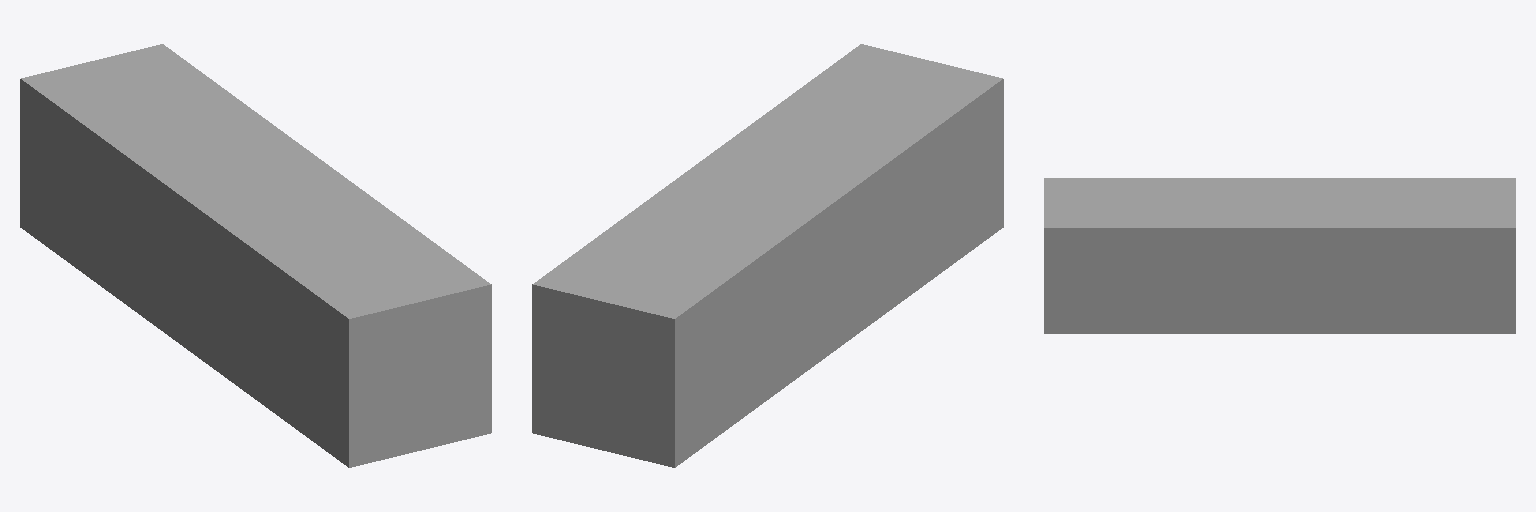
URDF robot description (robot):
<?xml version="1.0"?>
<robot xmlns:xacro="http://ros.org/wiki/xacro" name="robot">
<!-- ...........................................links and joints........................................................................... -->
<link name= "world" />

<link name= "base_link">
    <visual>
        <origin xyz="0 0 0" rpy="0 0 0" />
        <geometry>
         <mesh filename="file://[local-path]/sim_ws/src/six_dof/meshes/base.stl"/>    
        </geometry>
        <material name = "light_grey">
         <color rgba="0.7 0.7 0.7 1.0"/>
        </material>
    </visual>
    
    <collision>
        <origin xyz="0 0 0" rpy="0 0 0" />
        <geometry>
         <mesh filename="file://[local-path]/sim_ws/src/six_dof/meshes/base.stl"/>    
        </geometry>    
    </collision>
    
    <inertial>
        <origin xyz="0 0 0" rpy="0 0 0" />
        <mass value= "1"/>
        <inertia ixx="0.236016666667" ixy="0" ixz="0" iyy="0.236016666667" iyz="0" izz="0.4624" />
    </inertial>
</link>


<link name= "link1">
    <visual>
        <origin xyz="0 0 0" rpy="0 0 0" />
        <geometry>
         <mesh filename="file://[local-path]/sim_ws/src/six_dof/meshes/link1.stl"/>    
        </geometry>
        <material name = "light_grey">
         <color rgba="0.7 0.7 0.7 1.0"/>
        </material>
    </visual>
    
    <collision>
        <origin xyz="0 0 0" rpy="0 0 0" />
        <geometry>
         <mesh filename="file://[local-path]/sim_ws/src/six_dof/meshes/link1.stl"/>    
        </geometry>    
    </collision>

    <inertial>
        <origin xyz="0 0.054450 0.205749" rpy="0 0 0" />
        <mass value= "3"/>
        <!--<inertia ixx="0.001643" ixy="-0" ixz="0" iyy="0.001350" iyz="-0" izz="0.000720" />-->
        <inertia ixx="0.135625" ixy="-0" ixz="-0" iyy="0.135625" iyz="-0" izz="0.06" /> 
    </inertial>
</link>



<link name= "link2">
    <visual>
        <origin xyz="0 0 0" rpy="0 0 0" />
        <geometry>
         <mesh filename="file://[local-path]/sim_ws/src/six_dof/meshes/link2.stl"/>    
        </geometry>
        <material name = "light_grey">
         <color rgba="0.7 0.7 0.7 1.0"/>
        </material>
    </visual>
    
    <collision>
        <origin xyz="0 0 0" rpy="0 0 0" />
        <geometry>
         <mesh filename="file://[local-path]/sim_ws/src/six_dof/meshes/link2.stl"/>    
        </geometry>    
    </collision>

    <inertial>
        <origin xyz="-0.001991 0.465745 0.069578" rpy="0 0 0" />
        <mass value= "4.5"/>
        <inertia ixx= "0.521484375" ixy="0" ixz="-0" iyy="0.0271875" iyz="0" izz="0.521484375" />
        <!-- <inertia ixx="0" ixy="0" ixz="0" iyy="0" iyz="0" izz="0.15625" /> -->
    </inertial>
</link>



<link name= "link3">
    <visual>
        <origin xyz="0 0 0" rpy="0 0 0" />
        <geometry>
         <mesh filename="file://[local-path]/sim_ws/src/six_dof/meshes/link3.stl"/>    
        </geometry>
        <material name = "light_grey">
         <color rgba="0.7 0.7 0.7 1.0"/>
        </material>
    </visual>
    
    <collision>
        <origin xyz="0 0 0" rpy="0 0 0" />
        <geometry>
         <mesh filename="file://[local-path]/sim_ws/src/six_dof/meshes/link3.stl"/>    
        </geometry>    
    </collision>

    <inertial>
        <origin xyz="-0.102694 0.463870 -0.115298" rpy="0 0 0.0959931" />
        <mass value= "8"/>
        <inertia ixx= "1.22373333333" ixy="0" ixz="-0" iyy="0.0533333333333" iyz="0" izz="1.22373333333" />

    </inertial>
</link>


<link name= "link4">
    <visual>
        <origin xyz="0 0 0" rpy="0 0 0" />
        <geometry>
         <mesh filename="file://[local-path]/sim_ws/src/six_dof/meshes/link4_n.stl"/>    
        </geometry>
        <material name = "light_grey">
         <color rgba="0.7 0.7 0.7 1.0"/>
        </material>
    </visual>
    
    <collision>
        <origin xyz="0 0 0" rpy="0 0 0" />
        <geometry>
         <mesh filename="file://[local-path]/sim_ws/src/six_dof/meshes/link4_n.stl"/>    
        </geometry>    
    </collision>

    <inertial>
        <origin xyz="0.000000 0.074249 -0.033000" rpy="0 0 0" />
        <mass value= "1"/>
        <inertia ixx= "0.00249633333333" ixy="0" ixz="-0" iyy="0.00249633333333" iyz="-0" izz="0.00343541666667" /> 
    </inertial>
</link>

<link name= "link5">
    <visual>
        <origin xyz="0 0 0" rpy="0 0 0" />
        <geometry>
         <mesh filename="file://[local-path]/sim_ws/src/six_dof/meshes/link5.stl"/>    
        </geometry>
        <material name = "light_grey">
         <color rgba="0.7 0.7 0.7 1.0"/>
        </material>
    </visual>
    
    <collision>
        <origin xyz="0 0 0" rpy="0 0 0" />
        <geometry>
         <mesh filename="file://[local-path]/sim_ws/src/six_dof/meshes/link5.stl"/>    
        </geometry>    
    </collision>

    <inertial>
        <origin xyz="0.000000 0.074249 -0.033000" rpy="0 0 0" />
        <mass value= "1"/>
        <inertia ixx= "0.00249633333333" ixy="0" ixz="-0" iyy="0.00249633333333" iyz="-0" izz="0.00343541666667" /> 
    </inertial>
</link>

<link name="tool">
</link>

<link name= "finger1">
    <visual>
        <origin xyz="0 0 0" rpy="0 0 0" />
        <geometry>
         <mesh filename="file://[local-path]/sim_ws/src/six_dof/meshes/fin1.stl"/>    
        </geometry>
        <material name = "light_grey">
         <color rgba="0.7 0.7 0.7 1.0"/>
        </material>
    </visual>
    
    <collision>
        <origin xyz="0 0 0" rpy="0 0 0" />
        <geometry>
         <mesh filename="file://[local-path]/sim_ws/src/six_dof/meshes/fin1.stl"/>    
        </geometry>    
    </collision>

    <inertial>
        <origin xyz="0.000000 0.074249 -0.033000" rpy="0 0 0" />
        <mass value= "1"/>
        <inertia ixx= "0.00249633333333" ixy="0" ixz="-0" iyy="0.00249633333333" iyz="-0" izz="0.00343541666667" /> 
    </inertial>
</link>

<link name= "finger2">
    <visual>
        <origin xyz="0 0 0" rpy="0 0 0" />
        <geometry>
         <mesh filename="file://[local-path]/sim_ws/src/six_dof/meshes/fin2.stl"/>    
        </geometry>
        <material name = "light_grey">
         <color rgba="0.7 0.7 0.7 1.0"/>
        </material>
    </visual>
    
    <collision>
        <origin xyz="0 0 0" rpy="0 0 0" />
        <geometry>
         <mesh filename="file://[local-path]/sim_ws/src/six_dof/meshes/fin2.stl"/>    
        </geometry>    
    </collision>

    <inertial>
        <origin xyz="0.000000 0.074249 -0.033000" rpy="0 0 0" />
        <mass value= "1"/>
        <inertia ixx= "0.00249633333333" ixy="0" ixz="-0" iyy="0.00249633333333" iyz="-0" izz="0.00343541666667" /> 
    </inertial>
</link>

<link name= "kinect_link">
    <visual>
        <origin xyz="0 0 0" rpy="0 0 0" />
        <geometry>
         <box size="0.05 0.2 0.05"/>    
        </geometry>
        <material name = "light_grey">
         <color rgba="0.7 0.7 0.7 1.0"/>
        </material>
    </visual>
    
    <collision>
        <origin xyz="0 0 0" rpy="0 0 0" />
        <geometry>
          <box size="0.05 0.2 0.05"/>
        </geometry>    
    </collision>

</link>

<link name="camera_link_optical" >
</link>

<!-- ...........................................joints........................................................................... -->

<joint name="fixed" type="fixed">
    <parent link="world"/>
    <child link="base_link"/>
    <!--<limit lower= "-3.0" upper= "3.0" effort="200" velocity="3" />-->
    <origin xyz="0.0 0.0 0.0" rpy="0.0 0.0 0.0"/>
   <!-- <axis xyz = "0 0 1" />-->
</joint> 

<joint name="base_link1_joint" type="revolute">
    <parent link="base_link"/>
    <child link="link1"/>
    <limit lower= "-3.0" upper= "3.0" effort="200" velocity="3" />
    <origin xyz="0.0 0.0 0.170" rpy="0.0 0.0 0.0"/>
    <axis xyz = "0 0 1" />
</joint> 

<joint name="link1_link2_joint" type="revolute">
    <parent link="link1"/>
    <child link="link2"/>
    <limit lower= "-3.0" upper= "3.0" effort="200" velocity="3" />
    <origin xyz="0.050 0.200 0.500" rpy="0.0 1.5708 0.0"/>
    <axis xyz = "0 0 1" />
</joint> 

<joint name="link2_link3_joint" type="revolute">
    <parent link="link2"/>
    <child link="link3"/>
    <limit lower= "-3.0" upper= "3.0" effort="500" velocity="3" />
    <origin xyz="0.0 1.0 0.0" rpy="0.0 0.0 0.0"/>
    <axis xyz = "0 0 1" />
</joint> 

<joint name="link3_link4_joint" type="revolute">
    <parent link="link3"/>
    <child link="link4"/>
    <limit lower= "-3.0" upper= "3.0" effort="200" velocity="3" />
    <origin xyz="-0.153 1.083 -0.120" rpy="0.0 0.0 0.0"/>
    <axis xyz = "0 0 1" />
</joint> 

<joint name="link4_link5_joint" type="revolute">
    <parent link="link4"/>
    <child link="link5"/>
    <limit lower= "-3.0" upper= "3.0" effort="200" velocity="3" />
    <origin xyz="0 0.130 0" rpy="-1.5708 1.5708 0"/>
    <axis xyz = "0 0 1" />
</joint> 

<joint name="link5_tool_joint" type="fixed">
    <parent link="link5"/>
    <child link="tool"/>
    <origin xyz="0.0 0.0 0.330" rpy="-1.5708 -1.5708 0.0"/>
</joint> 

<joint name="l_finger_joint" type="prismatic">
    <origin rpy="1.5708 0 0" xyz="0.080 0 0.075" />
    <parent link="link5" />
    <child link="finger1" />
    <axis xyz="1 0 0" />
  <limit effort="60" lower="0" upper="0.1" velocity="0.05" /><dynamics damping="100.0" />
</joint>

<joint name="r_finger_joint" type="prismatic">
    <origin rpy="1.5708 0 0" xyz="-0.080 0 0.075" />
    <parent link="link5" />
    <child link="finger2" />
    <axis xyz="-1 0 0" />
    <limit effort="60" lower="0" upper="0.1" velocity="0.05" /><dynamics damping="100.0" />
</joint>

<joint name="kinect_joint" type="fixed">
    <parent link="base_link"/>
    <child link="kinect_link"/>
    <origin xyz="-3 -0 1.2" rpy="0 0 0"/>
</joint> 

<joint name="camera_optical_joint" type="fixed">
    <origin xyz="0 0 0" rpy="-1.5708 0 -1.5708" />
    <parent link="kinect_link" />
    <child link="camera_link_optical" />
</joint>

<!-- ...........................................gazebo link properties........................................................................... -->

<gazebo reference="base_link">
    <mu1>5.0</mu1>
    <mu2>5.0</mu2>
    <material>Gazebo/Grey</material>
    <turnGravityOff>false</turnGravityOff>
</gazebo>

<gazebo reference="link1">
    <mu1>5.0</mu1>
    <mu2>5.0</mu2>
    <material>Gazebo/Grey</material>
    <turnGravityOff>false</turnGravityOff>
</gazebo>

<gazebo reference="link2">
    <mu1>5.0</mu1>
    <mu2>5.0</mu2>
    <material>Gazebo/Grey</material>
    <turnGravityOff>false</turnGravityOff>
</gazebo>

<gazebo reference="link3">
    <mu1>5.0</mu1>
    <mu2>5.0</mu2>
    <material>Gazebo/Grey</material>
    <turnGravityOff>false</turnGravityOff>
</gazebo>

<gazebo reference="link4">
    <mu1>5.0</mu1>
    <mu2>5.0</mu2>
    <material>Gazebo/Grey</material>
    <turnGravityOff>false</turnGravityOff>
</gazebo>

<gazebo reference="link5">
    <mu1>5.0</mu1>
    <mu2>5.0</mu2>
    <material>Gazebo/Grey</material>
    <turnGravityOff>false</turnGravityOff>
</gazebo>

<gazebo reference="finger1">
    <implicitSpringDamper>1</implicitSpringDamper>
    <kp>1000000.0</kp>
    <kd>1.0</kd>
    <mu1>10000.0</mu1>
    <mu2>10000.0</mu2>
    <minDepth>0.001</minDepth>
    <turnGravityOff>false</turnGravityOff>
</gazebo>

<gazebo reference="finger2">
    <implicitSpringDamper>1</implicitSpringDamper>
    <kp>1000000.0</kp>
    <kd>1.0</kd>
    <mu1>100000</mu1>
    <mu2>100000</mu2>
    <minDepth>0.001</minDepth>
    <turnGravityOff>false</turnGravityOff>
</gazebo>

<gazebo reference="kinect_link">
    <sensor type="depth" name="camera_1">
      <always_on>true</always_on>
      <visualize>true</visualize>
      <update_rate>15.0</update_rate>
      <camera>
        <horizontal_fov>1.047197</horizontal_fov>
        <image>          
          <format>B8G8R8</format>
          <width>640</width>
          <height>480</height>
        </image>
        <depth_camera>
        </depth_camera>
        <clip>
          <near>0.05</near>
          <far>50</far>
        </clip>
      </camera>
      <plugin name="camera_controller" filename="libgazebo_ros_openni_kinect.so">
        <baseline>0.1</baseline>
        <alwaysOn>true</alwaysOn>
        <updateRate>10.0</updateRate>
        <cameraName>kinect</cameraName>
        <frameName>camera_link_optical</frameName>
        <imageTopicName>rgb/image_raw</imageTopicName>
        <depthImageTopicName>depth/image_raw</depthImageTopicName>
        <pointCloudTopicName>depth/points</pointCloudTopicName>
        <cameraInfoTopicName>rgb/camera_info</cameraInfoTopicName> 
        <depthImageCameraInfoTopicName>depth/camera_info</depthImageCameraInfoTopicName>       
        <pointCloudCutoff>0.4</pointCloudCutoff>
          <hackBaseline>0.07</hackBaseline>
          <distortionK1>0.0</distortionK1>
          <distortionK2>0.0</distortionK2>
          <distortionK3>0.0</distortionK3>
          <distortionT1>0.0</distortionT1>
          <distortionT2>0.0</distortionT2>
        <CxPrime>0.0</CxPrime>
        <Cx>0.0</Cx>
        <Cy>0.0</Cy>
        <focalLength>0.0</focalLength>
      </plugin>
    </sensor>
  </gazebo>

<gazebo>
   <plugin name="gazebo_grasp_fix" filename="libgazebo_grasp_fix.so">
        <arm>
           <arm_name>robot</arm_name>
           <palm_link>link5</palm_link>
           <gripper_link>finger1</gripper_link>
           <gripper_link>finger2</gripper_link>
        </arm>
       <forces_angle_tolerance>100</forces_angle_tolerance>
       <update_rate>1000</update_rate>
       <grip_count_threshold>1</grip_count_threshold>
       <max_grip_count>2</max_grip_count>
       <release_tolerance>0.005</release_tolerance>
       <disable_collisions_on_attach>true</disable_collisions_on_attach>
       <contact_topic>__default_topic__</contact_topic>
    </plugin>
</gazebo>
  



<!-- ...........................................control........................................................................... -->

<gazebo>
    <plugin name="gazebo_ros_control" filename="libgazebo_ros_control.so">
     <robotNamespace>/robot</robotNamespace>
     <robotSimType>gazebo_ros_control/DefaultRobotHWSim</robotSimType>
     <legacyModeNS>true</legacyModeNS>
    </plugin>
</gazebo>

<transmission name="base_link1_control">
    <type>transmission_interface/SimpleTransmission</type>
    <joint name="base_link1_joint">
     <hardwareInterface>hardware_interface/PositionJointInterface</hardwareInterface>
    </joint>
    <actuator name="base_link1_motor">
     <hardwareInterface>hardware_interface/PositionJointInterface</hardwareInterface>
     <mechanicalReduction>3</mechanicalReduction>
    </actuator>
</transmission>

<transmission name="link1_link2_control">
    <type>transmission_interface/SimpleTransmission</type>
    <joint name="link1_link2_joint">
     <hardwareInterface>hardware_interface/PositionJointInterface</hardwareInterface>
    </joint>
    <actuator name="link2_motor">
     <hardwareInterface>hardware_interface/PositionJointInterface</hardwareInterface>
     <mechanicalReduction>3</mechanicalReduction>
    </actuator>
</transmission>

<transmission name="link2_link3_control">
    <type>transmission_interface/SimpleTransmission</type>
    <joint name="link2_link3_joint">
     <hardwareInterface>hardware_interface/PositionJointInterface</hardwareInterface>
    </joint>
    <actuator name="link3_motor">
     <hardwareInterface>hardware_interface/PositionJointInterface</hardwareInterface>
     <mechanicalReduction>3</mechanicalReduction>
    </actuator>
</transmission>

<transmission name="link3_link4_control">
    <type>transmission_interface/SimpleTransmission</type>
    <joint name="link3_link4_joint">
     <hardwareInterface>hardware_interface/PositionJointInterface</hardwareInterface>
    </joint>
    <actuator name="link4_motor">
     <hardwareInterface>hardware_interface/PositionJointInterface</hardwareInterface>
     <mechanicalReduction>2</mechanicalReduction>
    </actuator>
</transmission>

<transmission name="link4_link5_control">
    <type>transmission_interface/SimpleTransmission</type>
    <joint name="link4_link5_joint">
     <hardwareInterface>hardware_interface/PositionJointInterface</hardwareInterface>
    </joint>
    <actuator name="link5_motor">
     <hardwareInterface>hardware_interface/PositionJointInterface</hardwareInterface>
     <mechanicalReduction>2</mechanicalReduction>
    </actuator>
</transmission>

<transmission name="link5_finger1_control">
    <type>transmission_interface/SimpleTransmission</type>
    <joint name="l_finger_joint">
     <hardwareInterface>hardware_interface/PositionJointInterface</hardwareInterface>
    </joint>
    <actuator name="l_finger_motor">
     <hardwareInterface>hardware_interface/PositionJointInterface</hardwareInterface>
     <mechanicalReduction>2</mechanicalReduction>
    </actuator>
</transmission>

<transmission name="link5_finger2_control">
    <type>transmission_interface/SimpleTransmission</type>
    <joint name="r_finger_joint">
     <hardwareInterface>hardware_interface/PositionJointInterface</hardwareInterface>
    </joint>
    <actuator name="r_finger_motor">
     <hardwareInterface>hardware_interface/PositionJointInterface</hardwareInterface>
     <mechanicalReduction>2</mechanicalReduction>
    </actuator>
</transmission>

</robot>



    

--- Render facts (derived) ---
The picture shows the robot from 3 angles, left to right: view 1: azimuth 30°, elevation 25°; view 2: azimuth 150°, elevation 25°; view 3: azimuth 270°, elevation 25°; orthographic projection.
Robot: robot — 12 links, 11 joints (5 revolute, 2 prismatic, 4 fixed); root link world; default pose: all joints at 0.
Visible links, largest first — view 1: kinect_link; view 2: kinect_link; view 3: kinect_link.
Boxes of the visible links, x1,y1,x2,y2 form: kinect_link: [20, 44, 491, 467]; kinect_link: [532, 44, 1003, 467]; kinect_link: [1044, 178, 1515, 333].
Size in the robot's own frame: 0.05 by 0.2 by 0.05 metres.
Geometry: only primitive shapes (box / cylinder / sphere) drawn; not drawn: 8 mesh visuals (reference in a form the renderer does not follow).